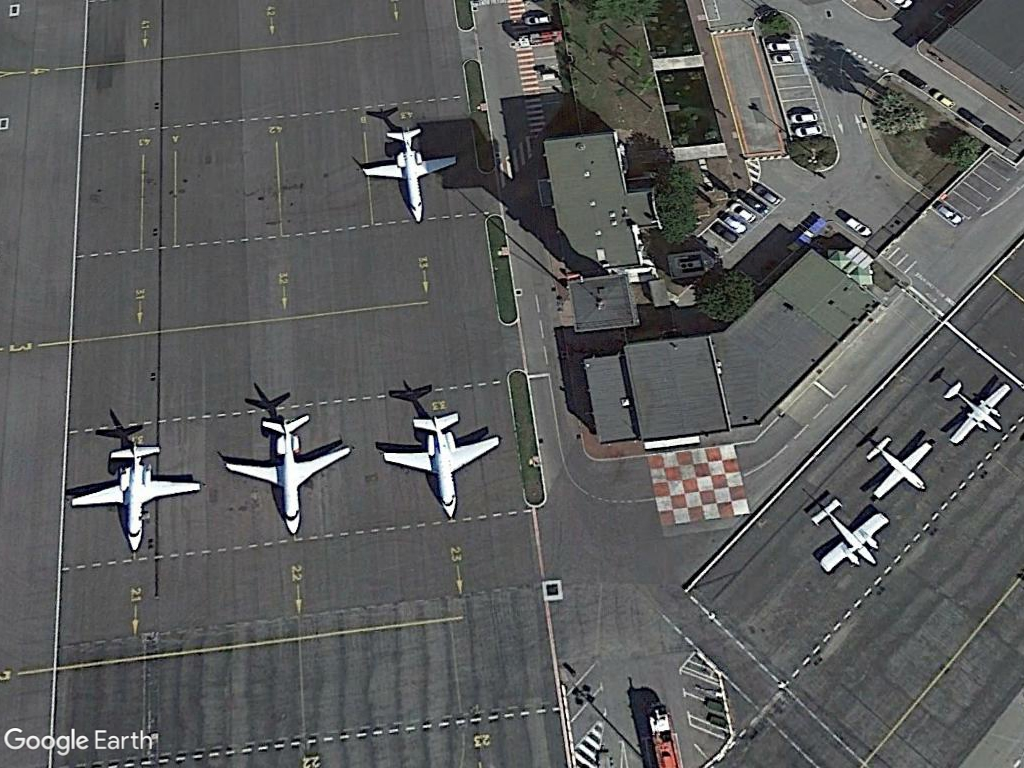chartered: (69, 431, 205, 558), (220, 414, 355, 540), (378, 414, 507, 527), (357, 123, 461, 228)
trainer: (800, 501, 902, 576), (930, 373, 1017, 449), (857, 436, 944, 501)
